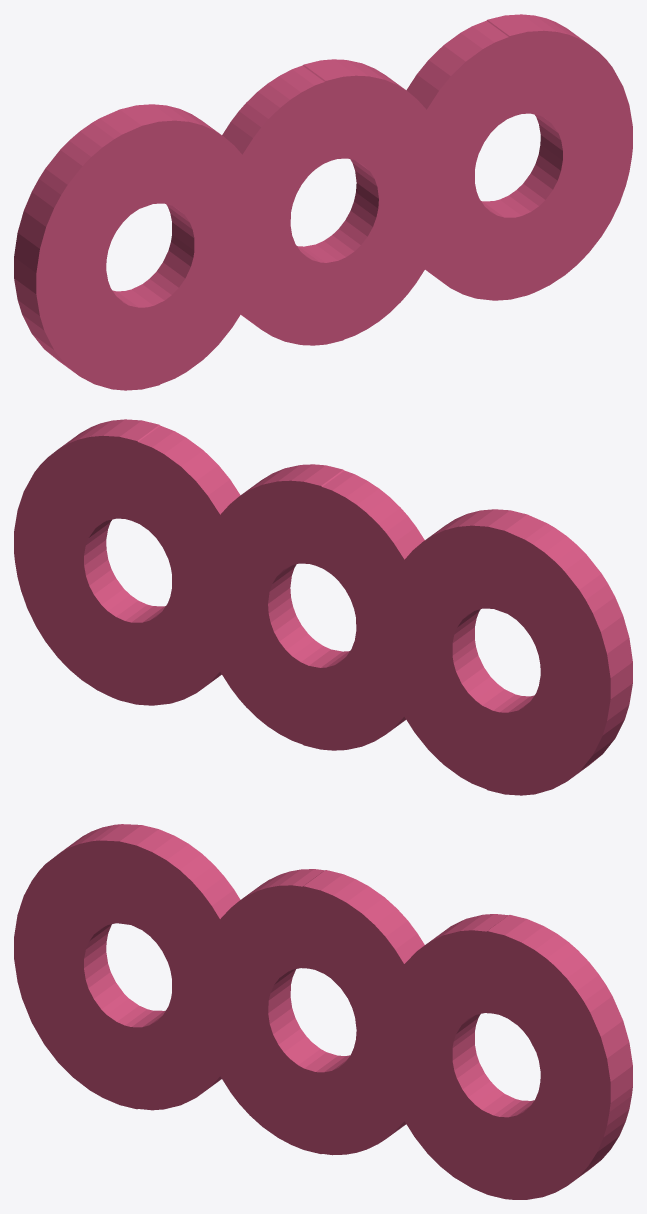
Rendered from bytecorp-rings.glb.
3 renders of one model, top to bottom at view 1: azimuth 30°, elevation 25°; view 2: azimuth 150°, elevation 25°; view 3: azimuth 330°, elevation 25°, orthographic.
Parts seen in each view (by area): view 1: geometry_0; view 2: geometry_0; view 3: geometry_0.
Boxes of the visible parts, <box> form: geometry_0: <box>14,14,632,390</box>; geometry_0: <box>14,419,632,795</box>; geometry_0: <box>14,824,632,1199</box>.
Size of the model in its own units: 2 by 0.8445 by 0.13.
